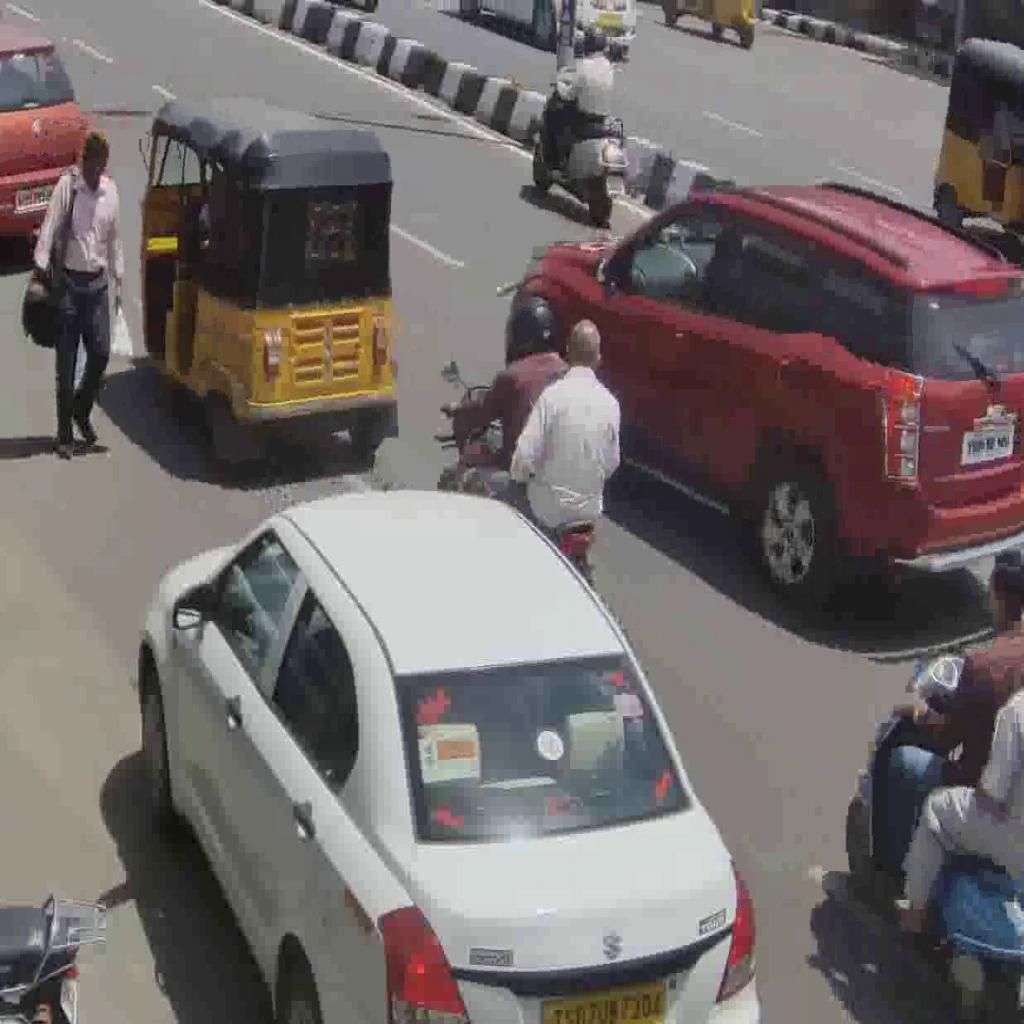bike: (436, 358, 599, 596), (532, 65, 628, 222)
helmet: (502, 290, 558, 364), (579, 22, 610, 57)
lisc: (604, 172, 624, 194)
no_helmet: (564, 315, 604, 374)
rider: (441, 290, 566, 508), (511, 315, 621, 549), (540, 22, 613, 174)
